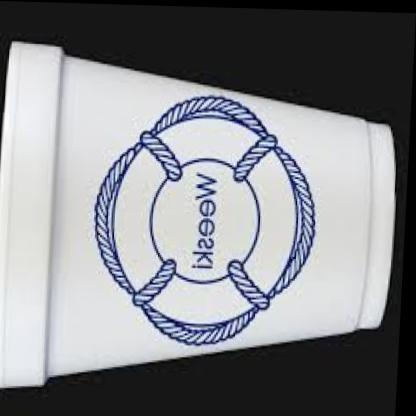trash: (0, 42, 394, 387)
